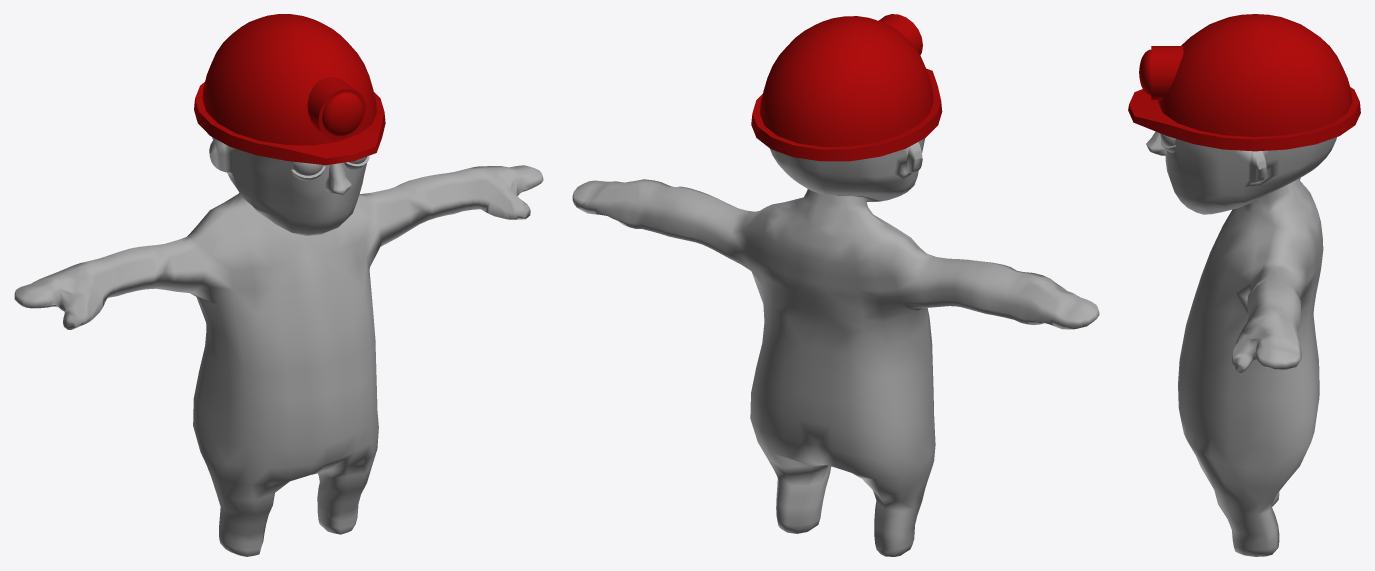
File: cuerpo+casco.fbx
The picture shows the model from 3 angles, left to right: view 1: azimuth 30°, elevation 25°; view 2: azimuth 150°, elevation 25°; view 3: azimuth 270°, elevation 25°; orthographic projection.
Visible parts, largest first — view 1: polySurface7, pSphere1, pCylinder2, pSphere10, group2; view 2: polySurface7, pSphere1, pCylinder2; view 3: polySurface7, pSphere1, pCylinder2, pSphere10, pCube6.
Part boxes in pixels (x1,y1,x2,y2): polySurface7: [14, 137, 543, 556]; pSphere1: [194, 14, 385, 165]; pCylinder2: [307, 77, 366, 140]; pSphere10: [322, 92, 363, 136]; group2: [291, 156, 369, 180]; polySurface7: [572, 138, 1099, 556]; pSphere1: [751, 16, 942, 161]; pCylinder2: [878, 14, 922, 54]; polySurface7: [1165, 137, 1336, 556]; pSphere1: [1128, 14, 1360, 151]; pCylinder2: [1151, 46, 1183, 100]; pSphere10: [1139, 49, 1151, 95]; pCube6: [1146, 131, 1166, 155].
Size of the model in its own units: 187 by 177 by 73.45.
